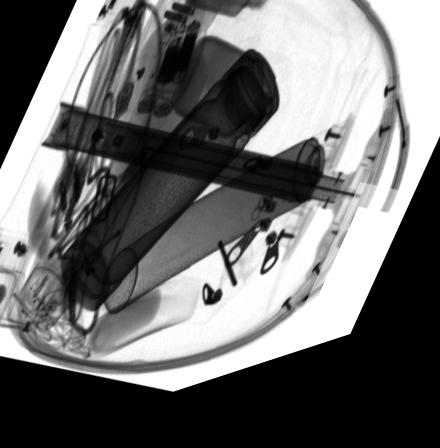Sprayer: (100, 141, 359, 322)
